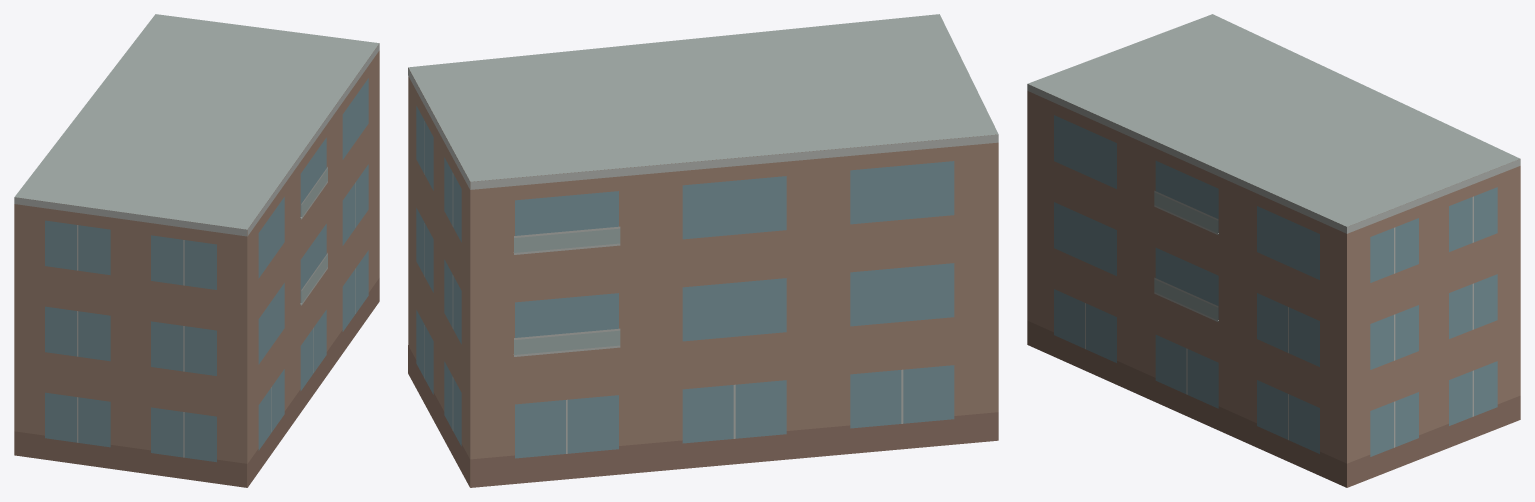
The model's file is survey-upis-32717503.glb.
3 views of the same model, side by side, from view 1: azimuth 30°, elevation 25°; view 2: azimuth 150°, elevation 25°; view 3: azimuth 270°, elevation 25° (orthographic). The views are drawn at different scales.
Parts seen in each view (by area): view 1: survey-upis-32717503.tmp; view 2: survey-upis-32717503.tmp; view 3: survey-upis-32717503.tmp.
Part boxes in pixels (x1,y1,x2,y2): survey-upis-32717503.tmp: (14, 14, 379, 487); survey-upis-32717503.tmp: (408, 14, 998, 487); survey-upis-32717503.tmp: (1027, 14, 1520, 487).
Bounding box in the file's own units: 16.02 × 9.15 × 15.68.
